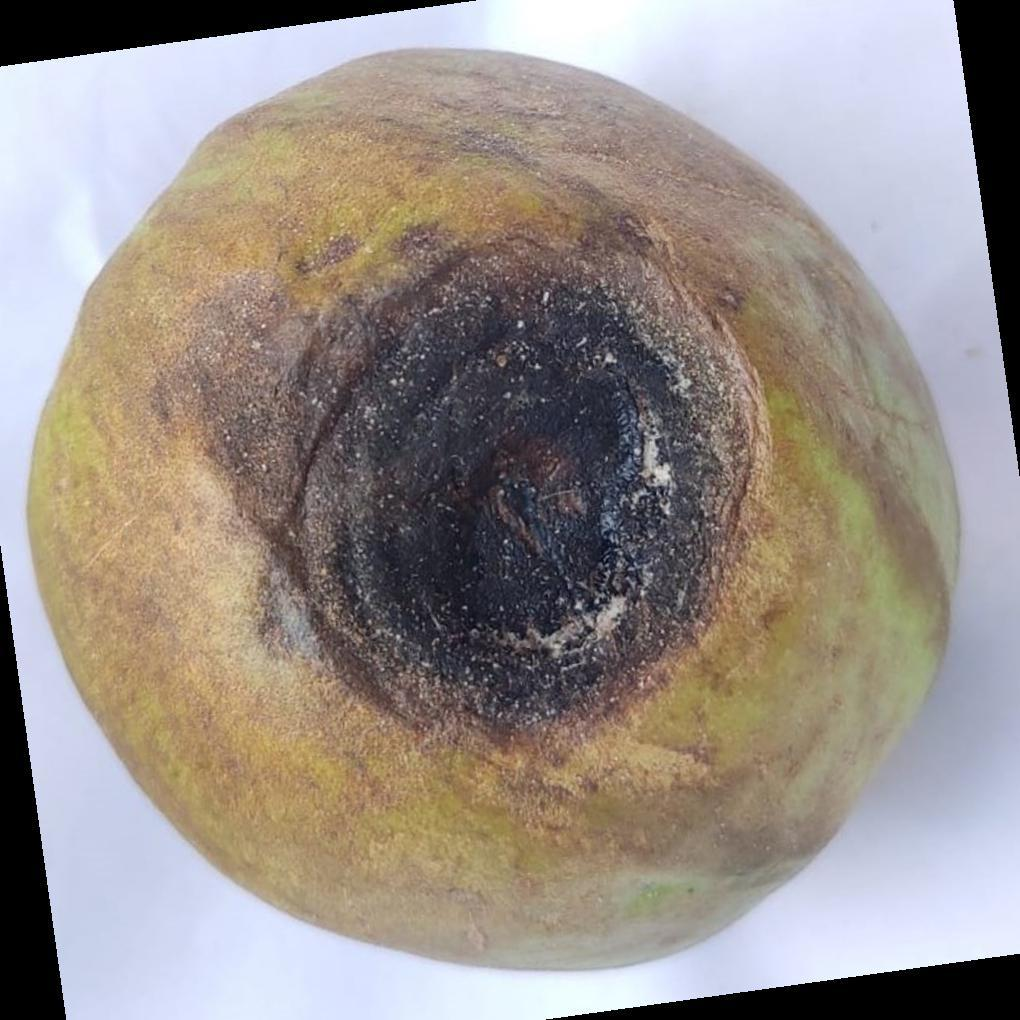FreshOrange: (24, 48, 965, 981)
